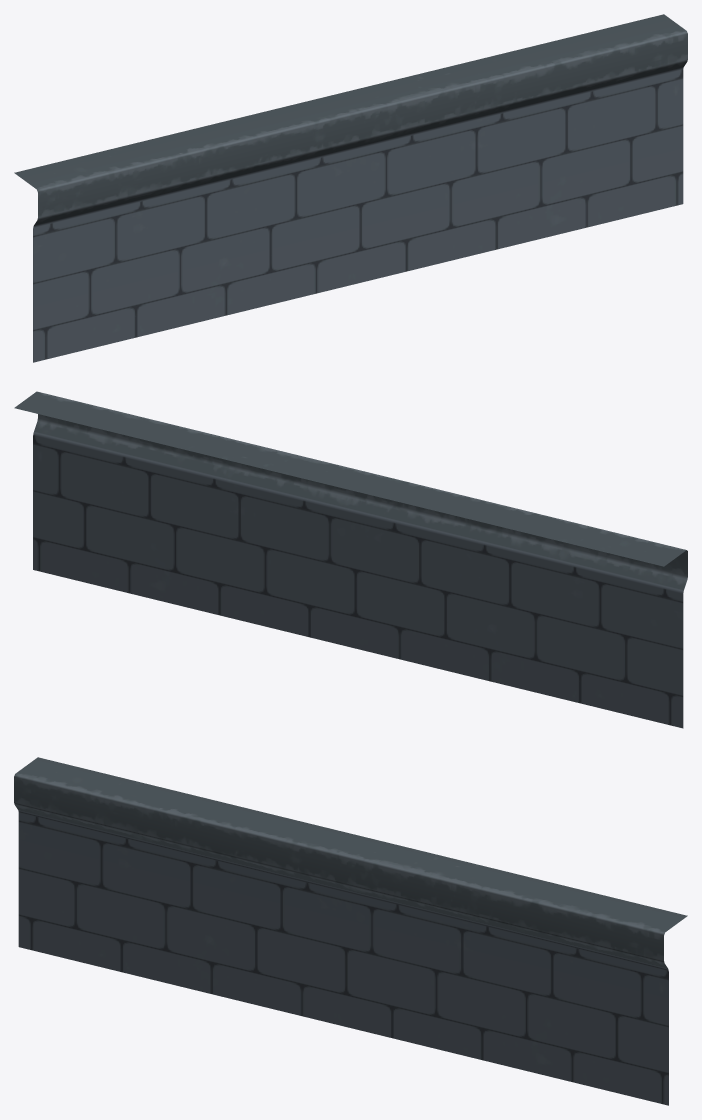
The model's file is Skirt_Main.fbx.
3 renders of one model, top to bottom at view 1: azimuth 30°, elevation 25°; view 2: azimuth 150°, elevation 25°; view 3: azimuth 330°, elevation 25°, orthographic.
Parts seen in each view (by area): view 1: Skirt_Main; view 2: Skirt_Main; view 3: Skirt_Main.
Boxes of the visible parts, x1,y1,x2,y2 form: Skirt_Main: (14, 14, 687, 362); Skirt_Main: (14, 391, 687, 728); Skirt_Main: (14, 757, 687, 1105).
Size of the model in its own units: 500 by 129 by 31.86.
Materials: 1 (1 with a texture image).
